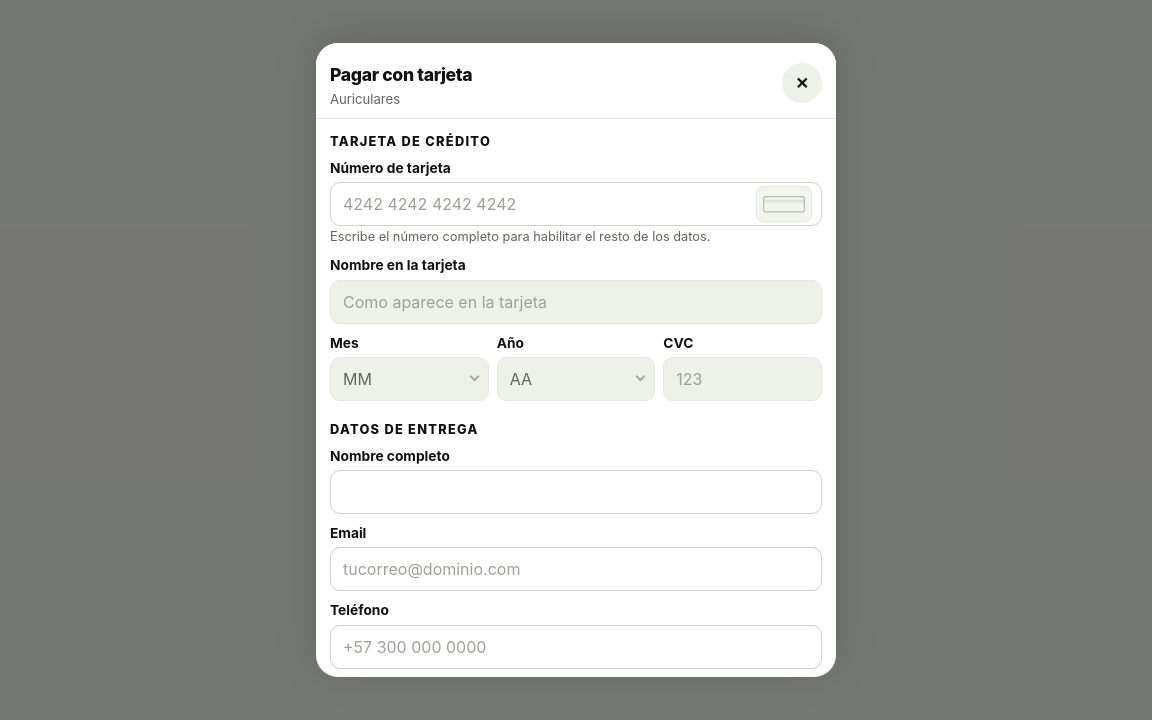
CheckoutModal › announces how many CVC digits the detected brand needs
Type "4242424242424242" into the field named "cardNumber".
click(576, 204); type("4242424242424242")  # box [330,182,822,226]
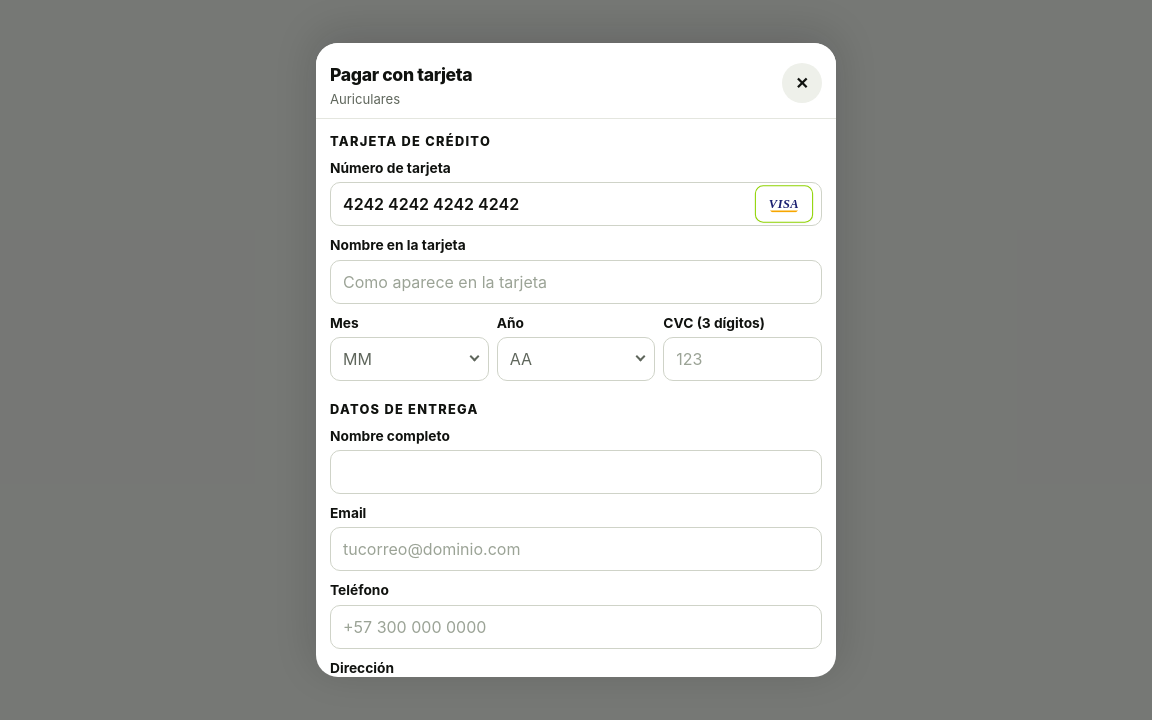
Check: the text "CVC (3 dígitos)" is shown, box [663,315,765,331]
Type "378282246310005" into the field named "cardNumber".
click(576, 204); type("378282246310005")  # box [330,182,822,226]
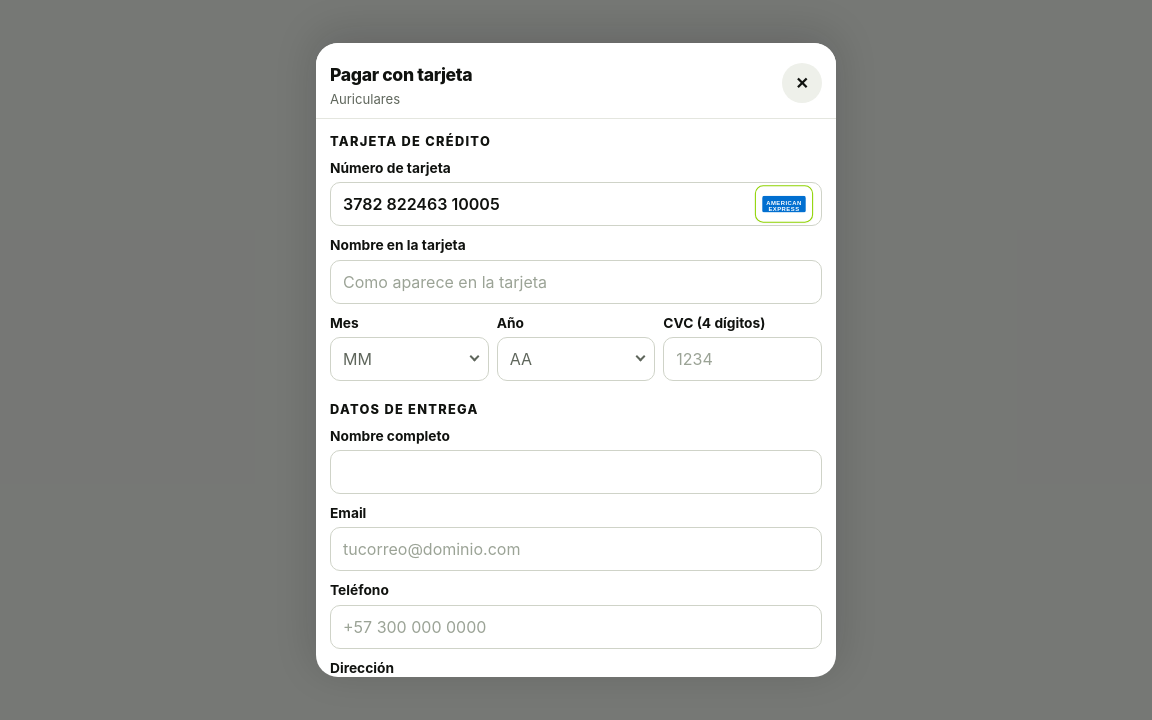
Check: the text "CVC (4 dígitos)" is shown, box [663,315,765,331]
